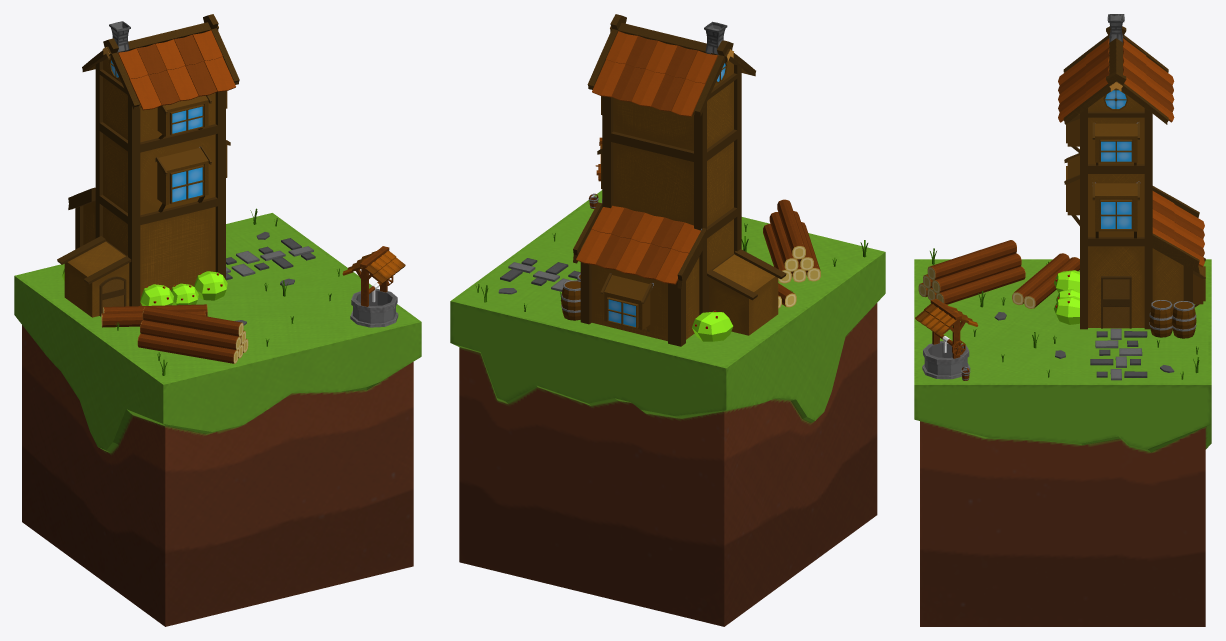
The model's file is Concepts_4.fbx.
3 renders of one model, left to right at view 1: azimuth 30°, elevation 25°; view 2: azimuth 150°, elevation 25°; view 3: azimuth 270°, elevation 25°, orthographic. The views are drawn at different scales.
Visible parts, largest first — view 1: Cube.064, Cube.076, Cube.073, Cube.071, Cube.065, Cube.075, Cube.074; view 2: Cube.064, Cube.076, Cube.073, Cube.075, Cube.066; view 3: Cube.064, Cube.076, Cube.073, Cube.071, Cube.075, Cube.074, Cube.065, Cube.015, Cube.070, Cube.068.
Boxes of the visible parts, left/top/right/bottom form: Cube.064: left=14, top=213, right=421, bottom=626; Cube.076: left=57, top=14, right=239, bottom=317; Cube.073: left=137, top=306, right=248, bottom=363; Cube.071: left=342, top=246, right=405, bottom=327; Cube.065: left=140, top=271, right=227, bottom=305; Cube.075: left=226, top=238, right=315, bottom=280; Cube.074: left=101, top=304, right=207, bottom=327; Cube.064: left=450, top=190, right=885, bottom=626; Cube.076: left=573, top=14, right=786, bottom=346; Cube.073: left=763, top=199, right=820, bottom=283; Cube.075: left=500, top=258, right=580, bottom=291; Cube.066: left=692, top=310, right=733, bottom=341; Cube.064: left=914, top=259, right=1211, bottom=626; Cube.076: left=1058, top=14, right=1205, bottom=329; Cube.073: left=918, top=240, right=1025, bottom=304; Cube.071: left=915, top=298, right=978, bottom=379; Cube.075: left=1090, top=328, right=1147, bottom=380; Cube.074: left=1012, top=253, right=1079, bottom=308; Cube.065: left=1054, top=270, right=1079, bottom=324; Cube.015: left=930, top=248, right=1199, bottom=379; Cube.070: left=1172, top=306, right=1196, bottom=338; Cube.068: left=1149, top=305, right=1172, bottom=337.
Bounding box in the file's own units: 301 × 575 × 301.
